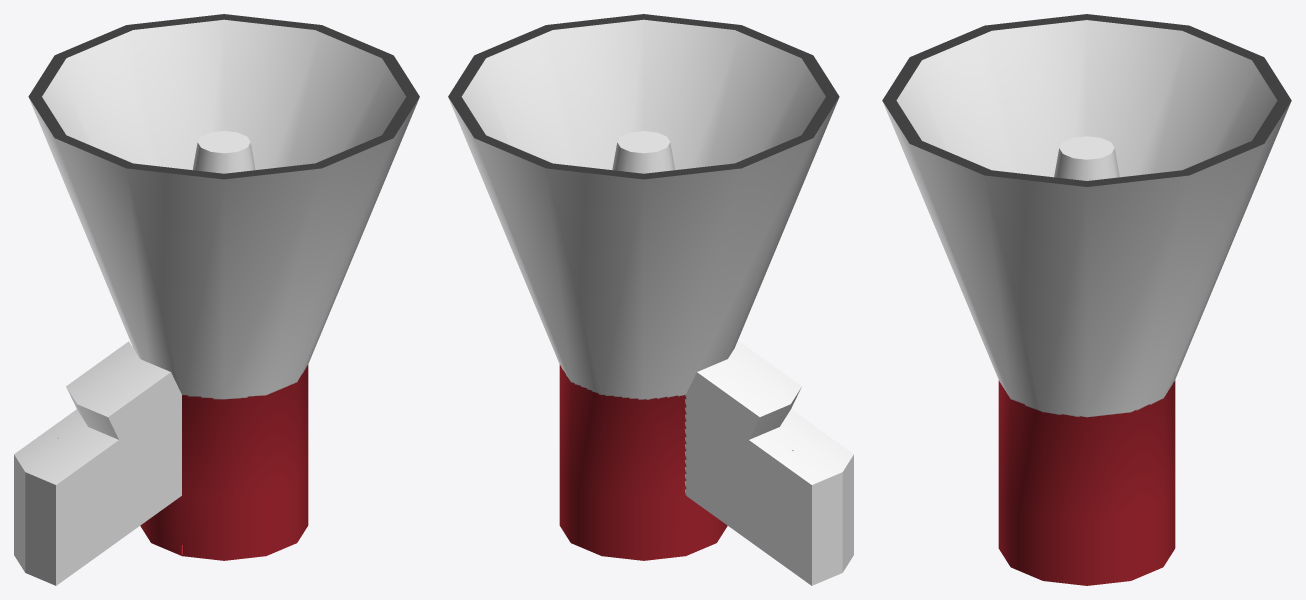
Rendered from megaphone.fbx.
3 views of the same model, side by side, from view 1: azimuth 30°, elevation 25°; view 2: azimuth 150°, elevation 25°; view 3: azimuth 270°, elevation 25° (orthographic). The views are drawn at different scales.
Parts seen in each view (by area): view 1: Megaphone; view 2: Megaphone; view 3: Megaphone.
Boxes of the visible parts, x1=… form: Megaphone: x1=14, y1=14, x2=419, y2=585; Megaphone: x1=448, y1=14, x2=853, y2=585; Megaphone: x1=882, y1=14, x2=1291, y2=585.
Size of the model in its own units: 505 by 561 by 465.
Materials: 1 (1 with a texture image).
